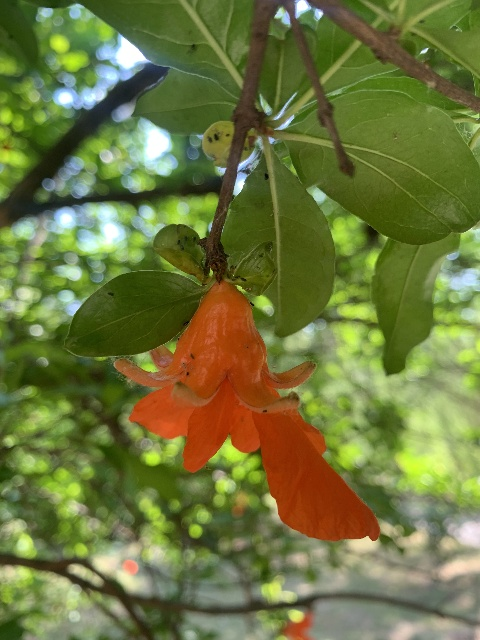flower: (116, 279, 374, 540)
